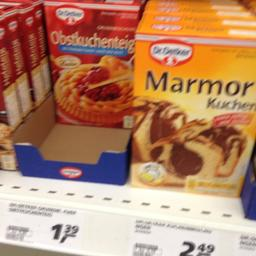cake: (128, 18, 255, 196), (44, 0, 140, 130)
